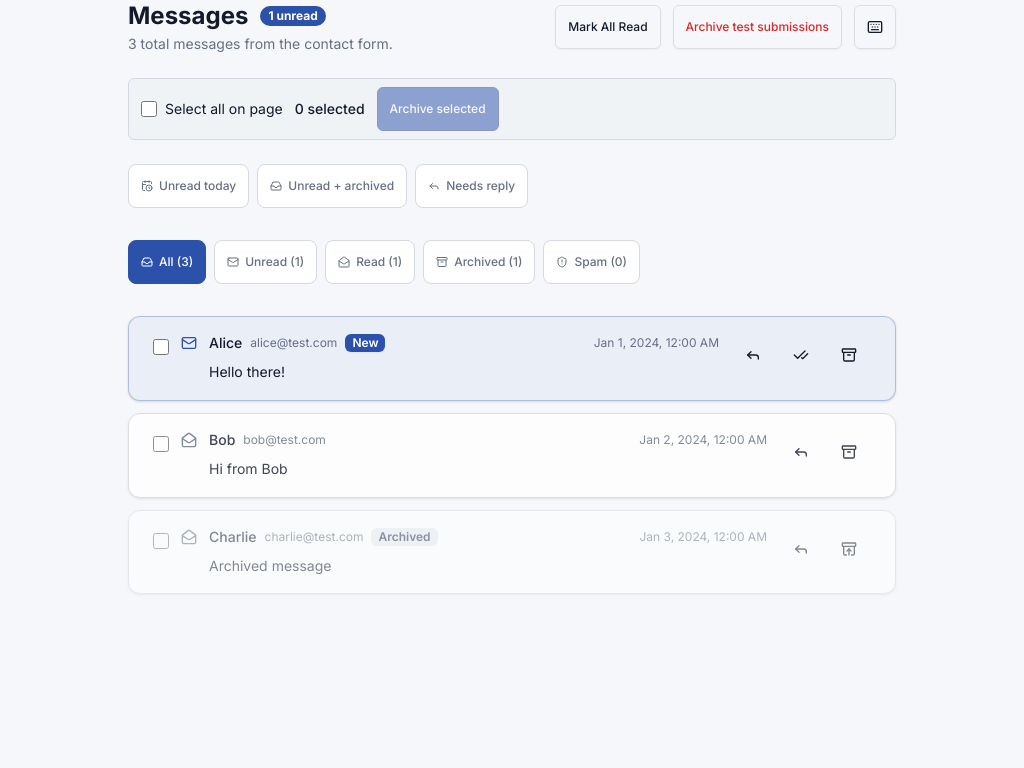
MessagesViewer › replies to the single selected message with the 'r' shortcut
The width and height of the screenshot is (1024, 768).
Expected: the text "Alice" is shown, 209,333 -> 242,353
Click the checkbox named "Select message from Alice" at (161, 347), box 153,339 -> 169,355
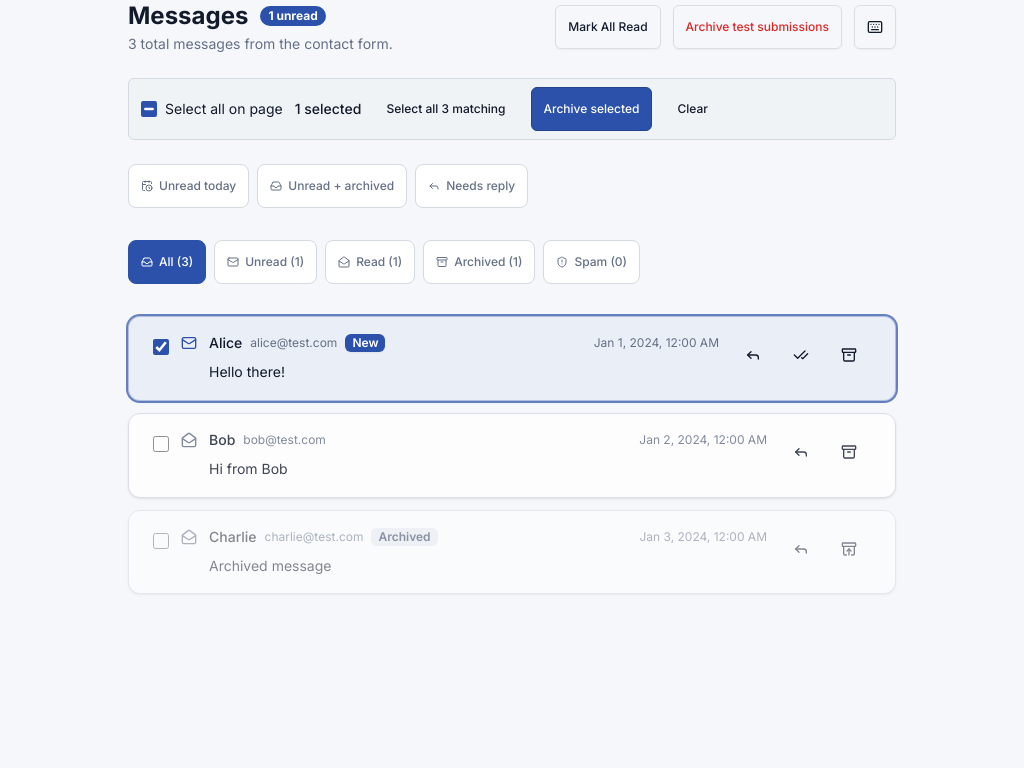
Press r
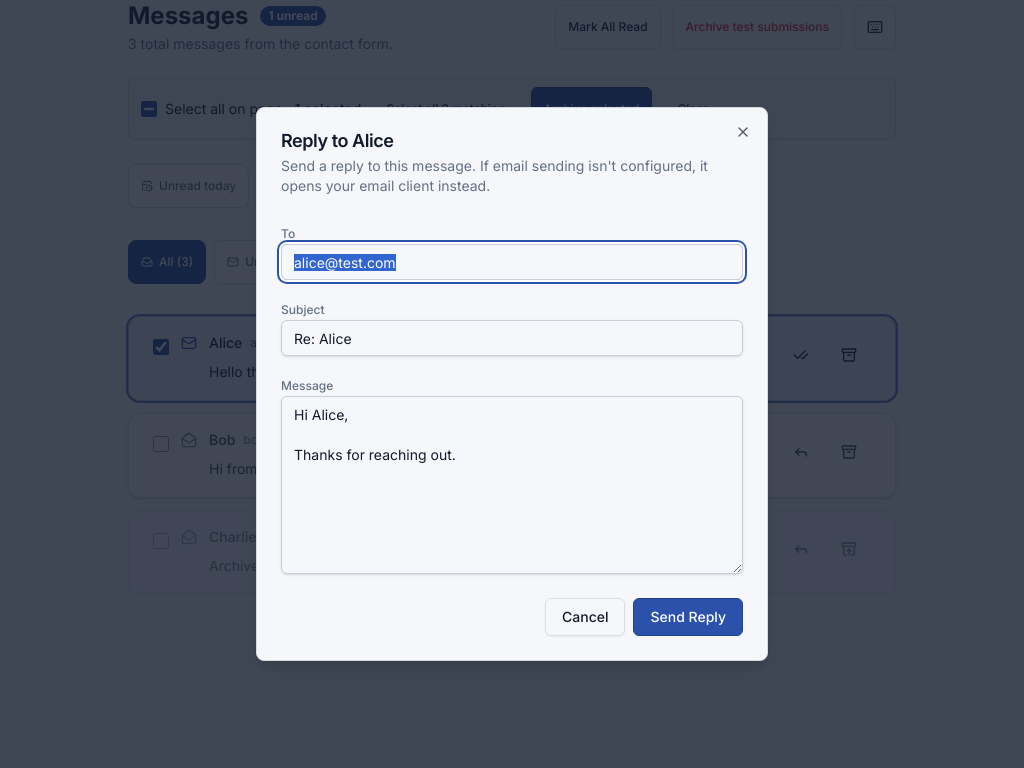
Now the heading "Reply to Alice" is shown, box 281,130 -> 393,151
